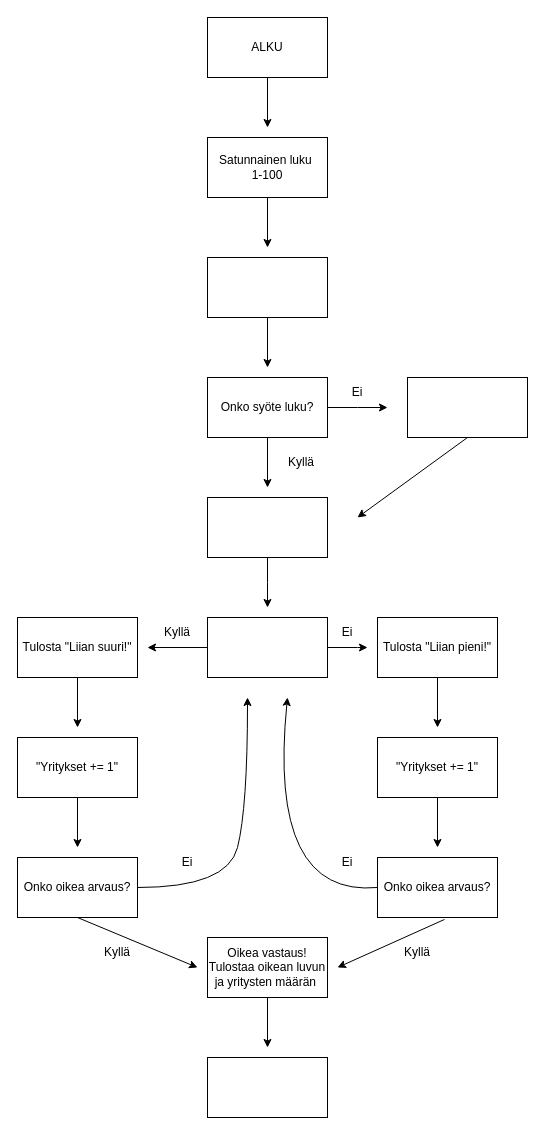
Some shapes in this 545 by 1135 pixel diagram are drawn without their labels. Here are the shapes that lost their labels. From the top down, the centre of each, then its label:
pixel 267 287: Käyttäjän arvaus
pixel 467 407: "Syötäthän vain numeroita!"
pixel 267 527: Yritykset += 1
pixel 267 647: Onko arvaus suurempi kuin luku?
pixel 267 1087: Loppu
